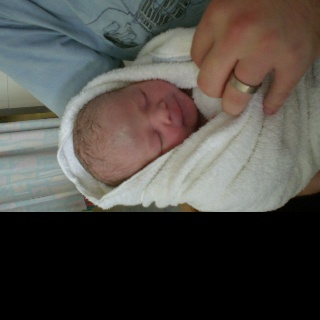without_mask: (72, 78, 198, 187), (122, 78, 196, 153)
